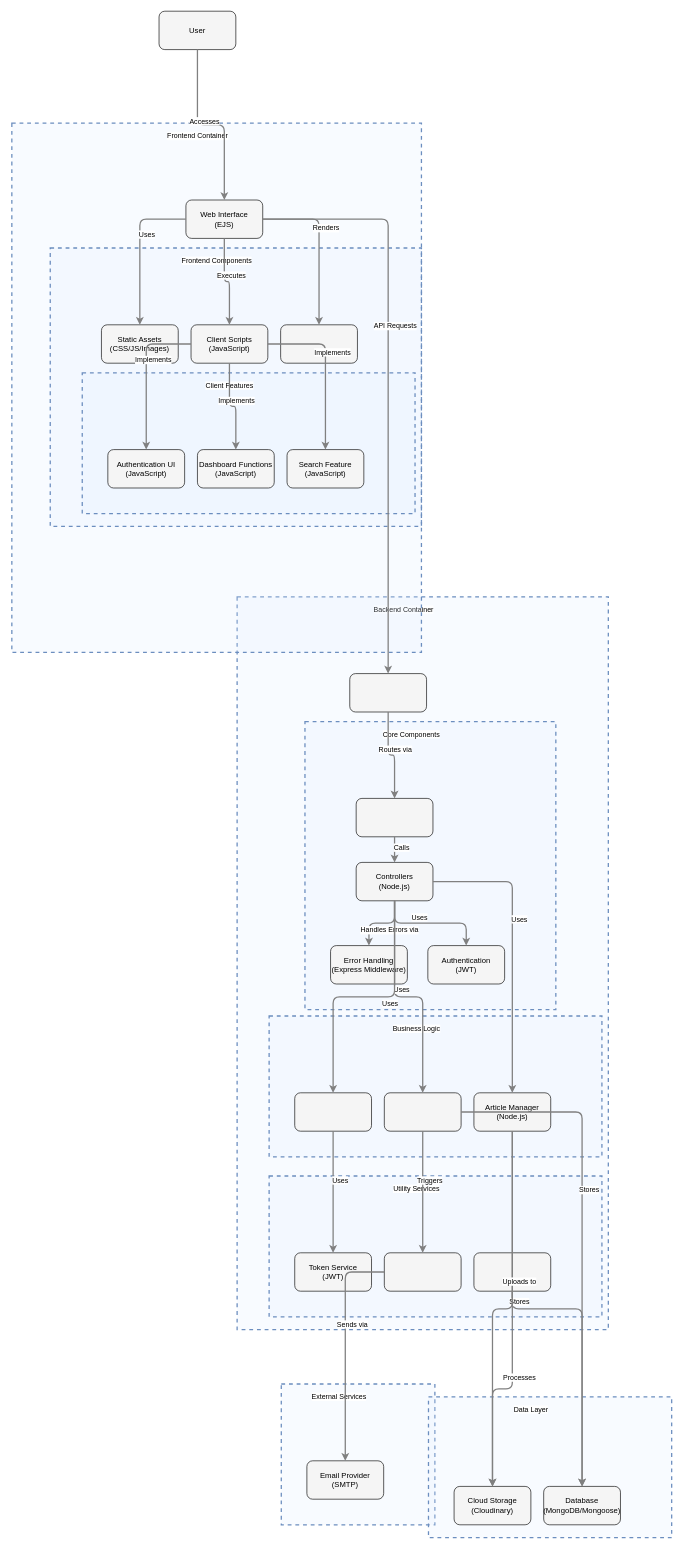
Image size: 683x1549. Some labels were removed from this diagram. Here are the shapes that lost their labels. From the top down, the box of each, then its label:
(280, 324, 357, 363): View Templates (EJS)
(349, 673, 427, 712): Express Application (Node.js)
(356, 798, 433, 837): Router Layer (Express Router)
(294, 1092, 372, 1131): Auth Manager (Node.js)
(384, 1092, 461, 1131): User Manager (Node.js)
(384, 1252, 461, 1291): Email Service (Nodemailer)
(473, 1252, 551, 1291): File Upload (Multer)
